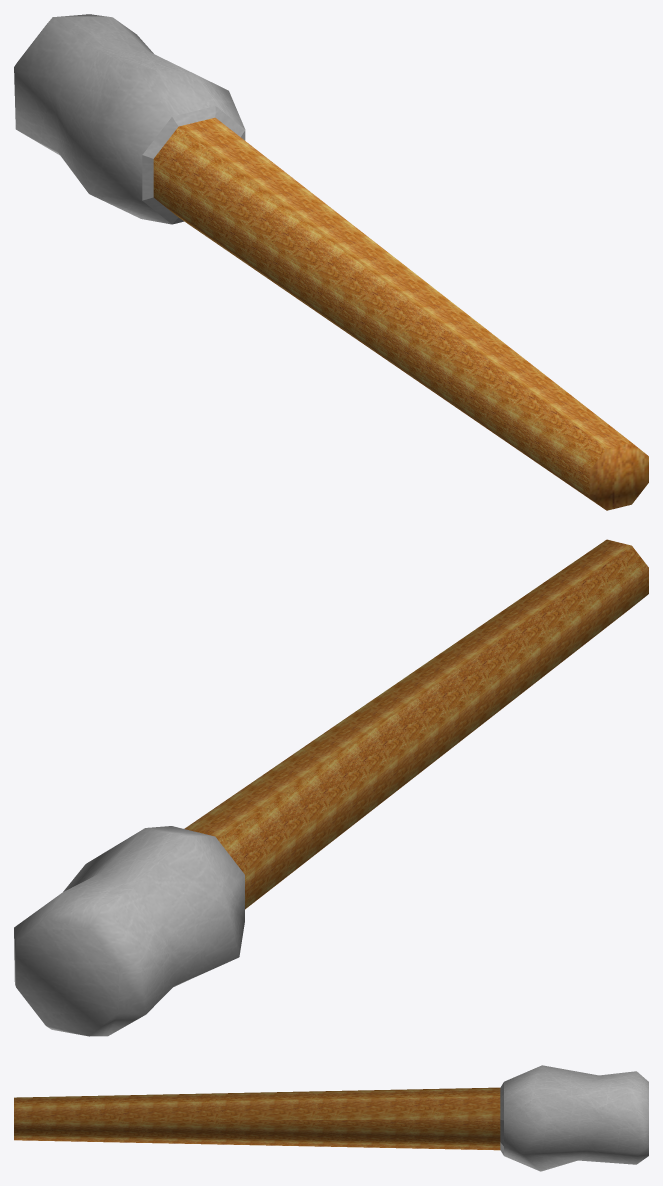
File: HQtorch.fbx
3 views of the same model, one above another, from view 1: azimuth 30°, elevation 25°; view 2: azimuth 150°, elevation 25°; view 3: azimuth 270°, elevation 25° (orthographic). The views are drawn at different scales.
Parts seen in each view (by area): view 1: Torch; view 2: Torch; view 3: Torch.
Boxes of the visible parts, left/top/right/bottom form: Torch: left=14, top=14, right=648, bottom=510; Torch: left=14, top=539, right=648, bottom=1036; Torch: left=14, top=1065, right=648, bottom=1171.
Bounding box in the file's own units: 0.0834 × 0.5426 × 0.0858.
Materials: 1 (1 with a texture image).
